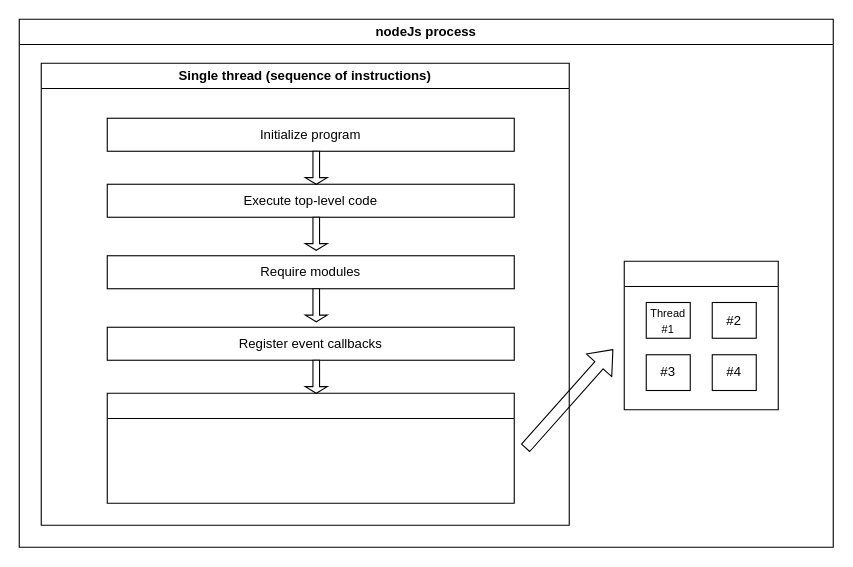
This 853x567 diagram has some shape labels left out. The box of each missing label's shape, as (x1, y1, x2, y2) in pixels:
Start Event Loop: (106, 392, 514, 503)
Thread Pool: (623, 260, 778, 410)
